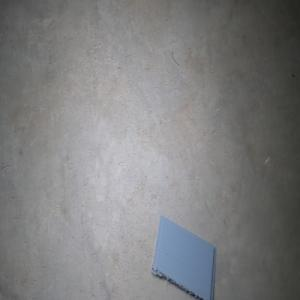PlasticPart: (150, 215, 217, 300)
